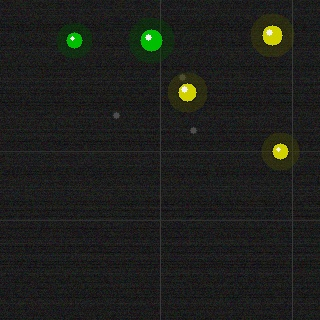green_normal: (138, 27, 164, 53), (64, 30, 84, 50)
yellow_warning: (260, 23, 284, 47), (176, 81, 198, 103), (270, 141, 290, 161)
